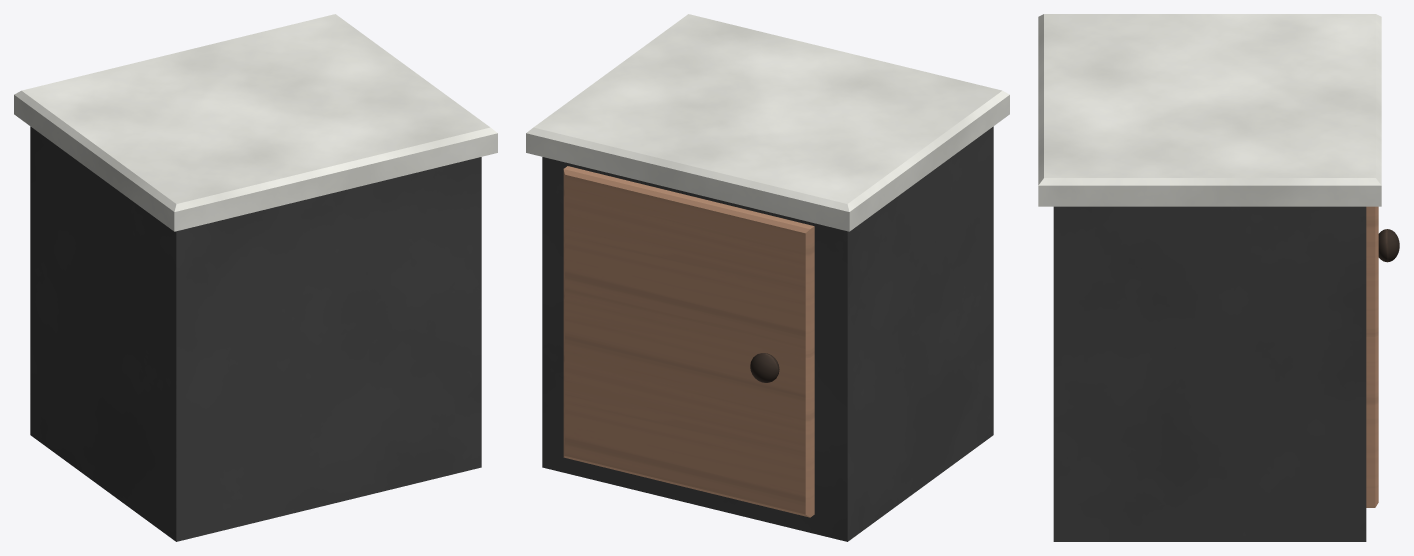
File: KitchenCupboardLeft.fbx
3 views of the same model, side by side, from view 1: azimuth 30°, elevation 25°; view 2: azimuth 150°, elevation 25°; view 3: azimuth 270°, elevation 25° (orthographic). The views are drawn at different scales.
Parts seen in each view (by area): view 1: Kitchen_Cabinet_Left; view 2: Kitchen_Cabinet_Left; view 3: Kitchen_Cabinet_Left.
Part boxes in pixels (x1,y1,x2,y2): Kitchen_Cabinet_Left: [14, 14, 497, 541]; Kitchen_Cabinet_Left: [526, 14, 1009, 541]; Kitchen_Cabinet_Left: [1038, 14, 1399, 541].
Size of the model in its own units: 101 by 102 by 91.06.
Materials: 1 (1 with a texture image).
